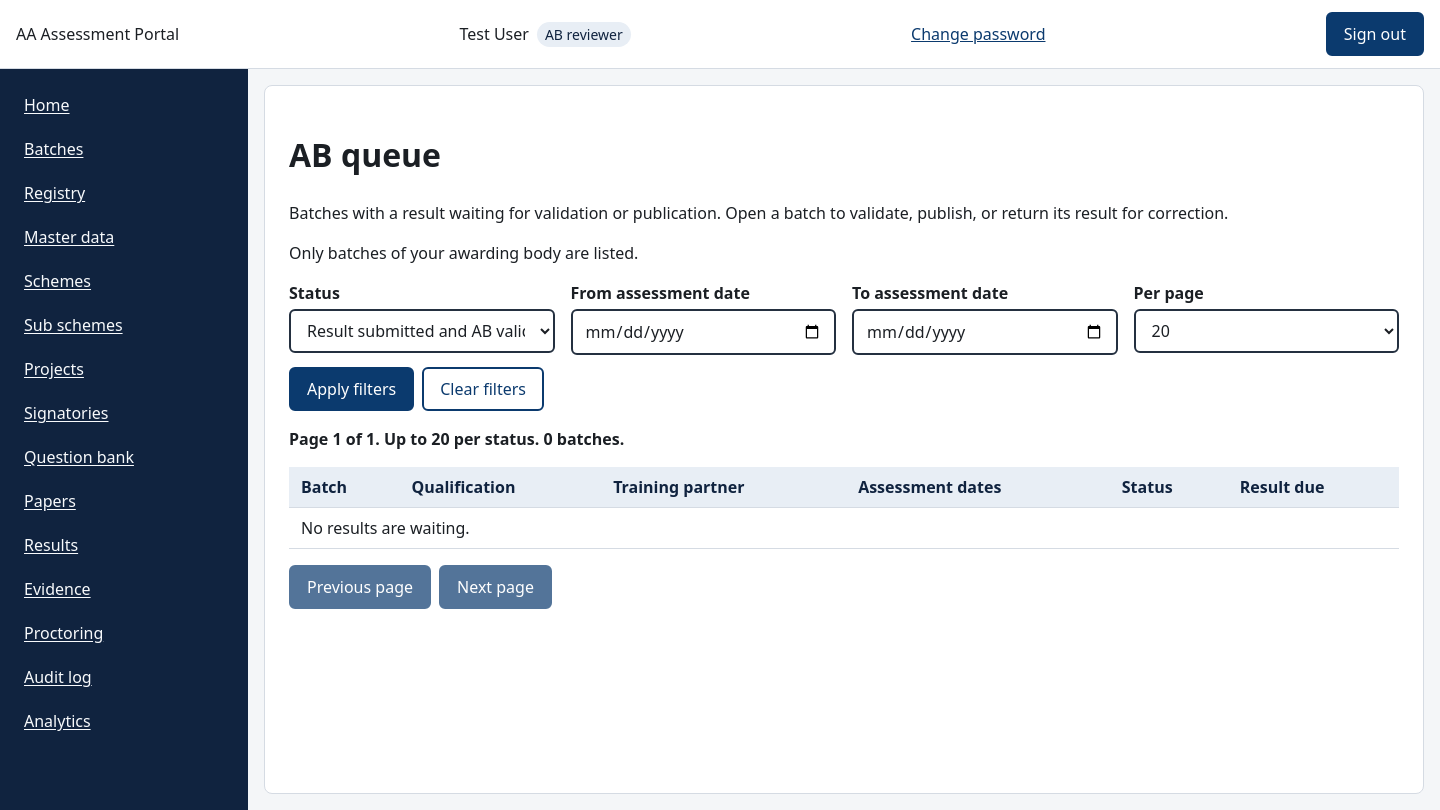
Test case: says so when nothing is waiting, and when filters match nothing
This screenshot has width=1440, height=810.
Expected: the text "No results are waiting." is shown, x1=289 y1=507 x2=1399 y2=548
Type "2026-11-01" into the date field labelled "From assessment date" at [703, 332], box x1=570 y1=309 x2=836 y2=355
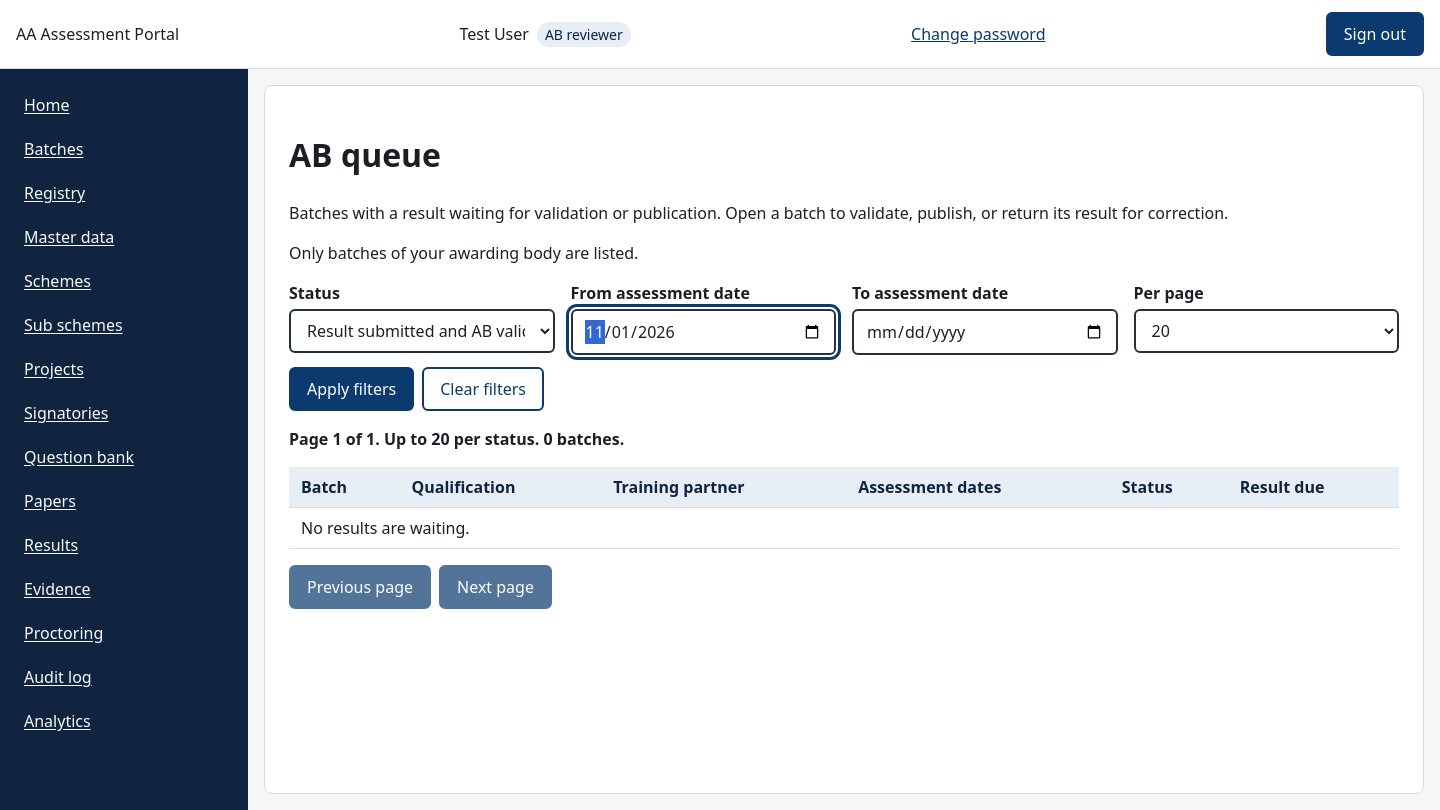
Click the button "Apply filters" at [352, 389], box x1=289 y1=367 x2=414 y2=411
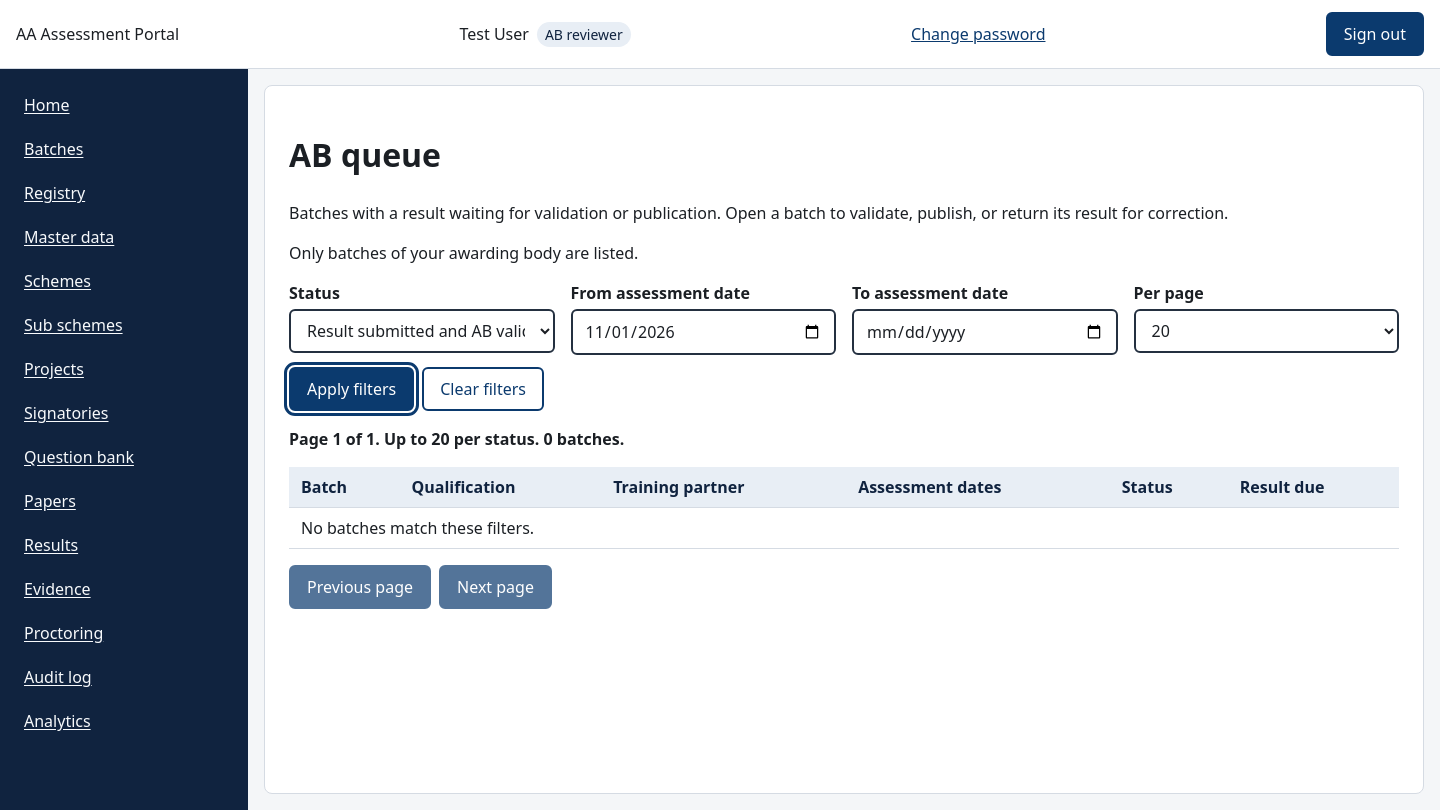
Result: the text "No batches match these filters." is shown at x1=289 y1=507 x2=1399 y2=548
